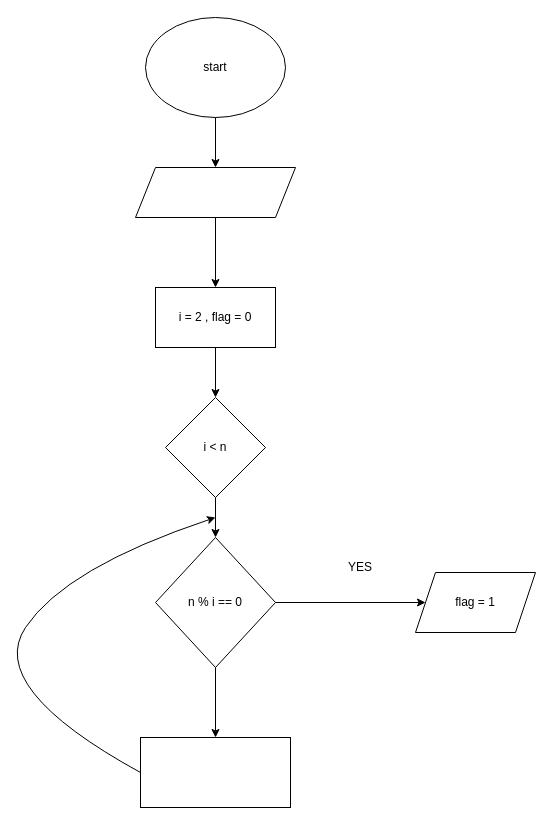
This 554x825 diagram has some shape labels left out. The shapes that lost their labels are listed below. From the top down, each one's centre as x and y in pixels, then its label:
(215,192): input n
(215,772): i++
